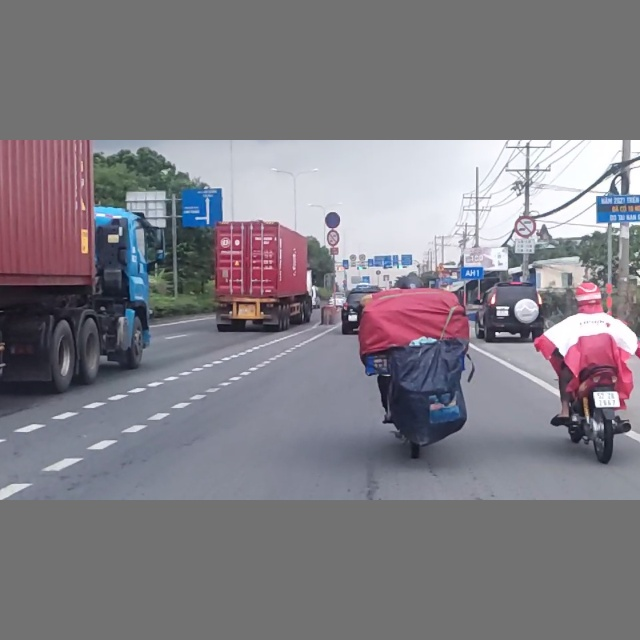P.107: (515, 216, 537, 238)
P.111: (327, 229, 339, 247)
P.130: (325, 211, 341, 228)
